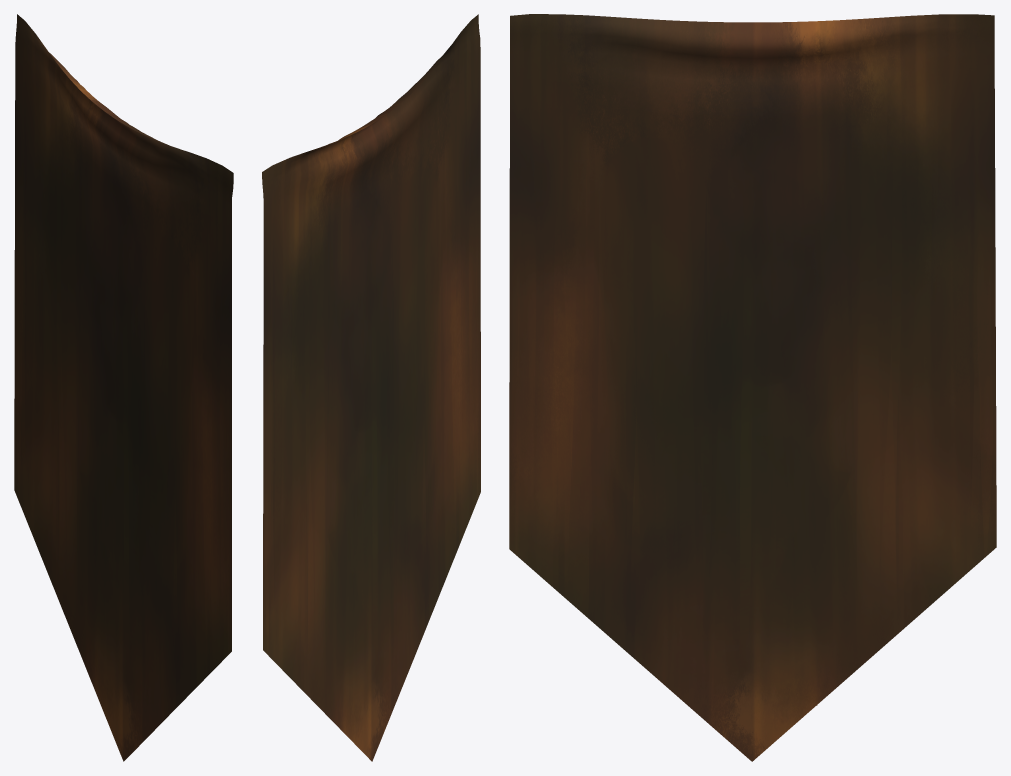
Rendered from flag.fbx.
The picture shows the model from 3 angles, left to right: view 1: azimuth 30°, elevation 25°; view 2: azimuth 150°, elevation 25°; view 3: azimuth 270°, elevation 25°; orthographic projection. The views are drawn at different scales.
Parts seen in each view (by area): view 1: simply_cloth; view 2: simply_cloth; view 3: simply_cloth.
Part boxes in pixels (bbox=[...]): simply_cloth: bbox=[14, 14, 233, 761]; simply_cloth: bbox=[262, 14, 480, 761]; simply_cloth: bbox=[509, 14, 996, 761].
Size of the model in its own units: 5.31 by 108 by 182.
